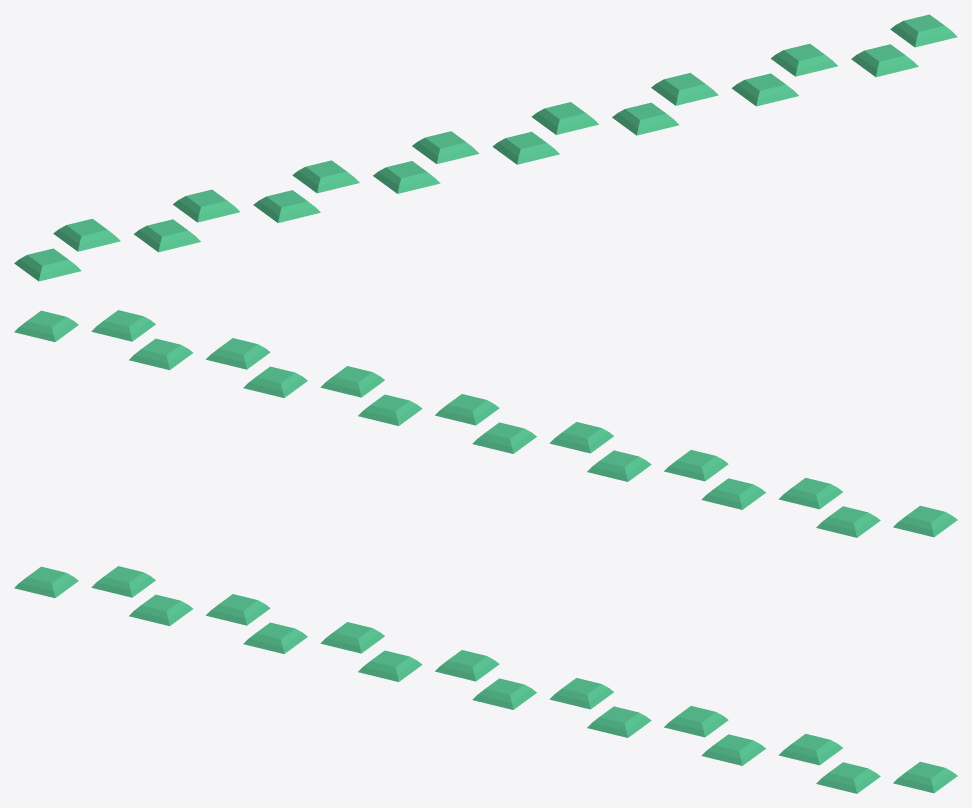
File: gm_suspension_01.dae
The picture shows the model from 3 angles, top to bottom: view 1: azimuth 30°, elevation 25°; view 2: azimuth 150°, elevation 25°; view 3: azimuth 330°, elevation 25°; orthographic projection. The views are drawn at different scales.
Visible parts, largest first — view 1: Colmesh-1; view 2: Colmesh-1; view 3: Colmesh-1.
Part boxes in pixels (<box>): Colmesh-1: <box>14,14,957,281</box>; Colmesh-1: <box>14,310,957,537</box>; Colmesh-1: <box>14,566,957,793</box>.
Bounding box in the file's own units: 39.3 × 3.3 × 0.4.
